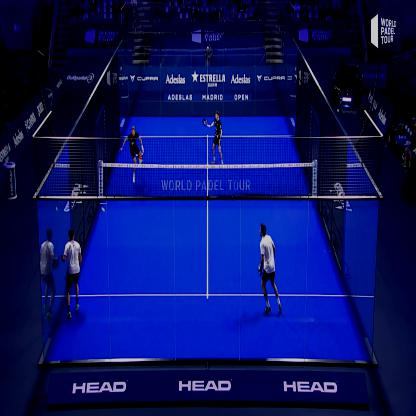ball: (100, 203, 108, 218)
